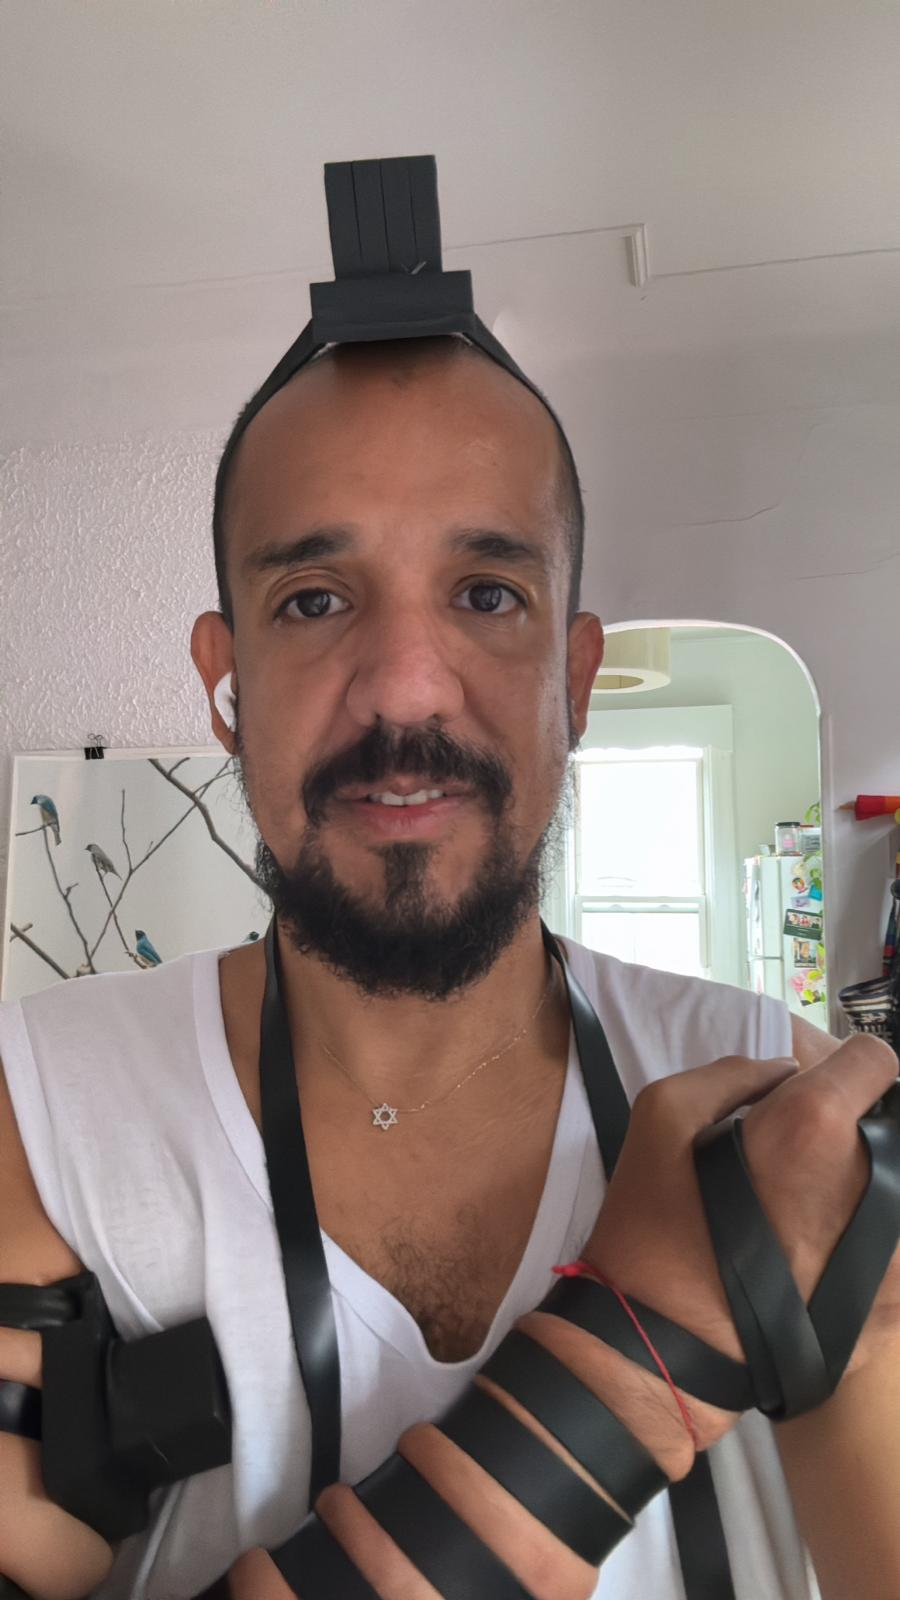tefillin: (36, 1273, 235, 1540), (305, 156, 477, 333)
